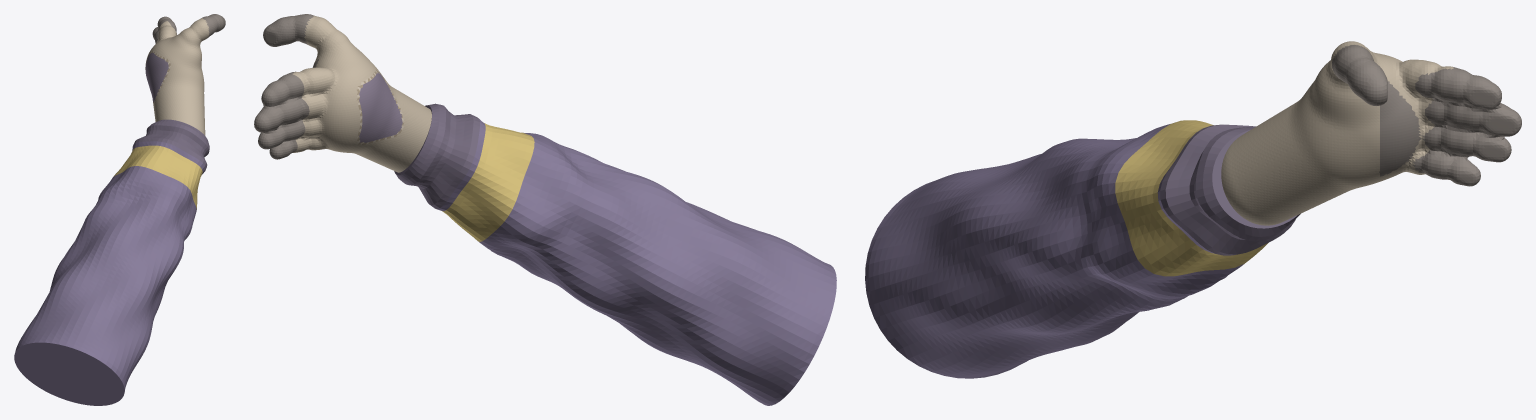
File: carryL.glb
The picture shows the model from 3 angles, left to right: view 1: azimuth 30°, elevation 25°; view 2: azimuth 150°, elevation 25°; view 3: azimuth 270°, elevation 25°; orthographic projection. The views are drawn at different scales.
Visible parts, largest first — view 1: vm_carryL_sleeve_uniform, vm_carryL_glove_canvas, vm_carryL_sleeve_stripe, vm_carryL_sleeve_cuff, vm_carryL_glove_patch, vm_carryL_glove_grip; view 2: vm_carryL_sleeve_uniform, vm_carryL_glove_canvas, vm_carryL_sleeve_stripe, vm_carryL_sleeve_cuff, vm_carryL_glove_grip, vm_carryL_glove_patch; view 3: vm_carryL_sleeve_uniform, vm_carryL_glove_canvas, vm_carryL_glove_grip, vm_carryL_sleeve_stripe, vm_carryL_sleeve_cuff.
Boxes of the visible parts, bbox=[...] form: vm_carryL_sleeve_uniform: bbox=[14, 141, 205, 405]; vm_carryL_glove_canvas: bbox=[145, 18, 209, 135]; vm_carryL_sleeve_stripe: bbox=[113, 145, 202, 209]; vm_carryL_sleeve_cuff: bbox=[134, 119, 209, 169]; vm_carryL_glove_patch: bbox=[145, 52, 168, 101]; vm_carryL_glove_grip: bbox=[152, 14, 225, 43]; vm_carryL_sleeve_uniform: bbox=[437, 119, 836, 405]; vm_carryL_glove_canvas: bbox=[292, 15, 431, 172]; vm_carryL_sleeve_stripe: bbox=[442, 123, 534, 241]; vm_carryL_sleeve_cuff: bbox=[394, 103, 479, 209]; vm_carryL_glove_grip: bbox=[254, 14, 318, 159]; vm_carryL_glove_patch: bbox=[359, 72, 402, 142]; vm_carryL_sleeve_uniform: bbox=[865, 124, 1243, 378]; vm_carryL_glove_canvas: bbox=[1221, 41, 1453, 225]; vm_carryL_glove_grip: bbox=[1332, 45, 1521, 186]; vm_carryL_sleeve_stripe: bbox=[1115, 120, 1267, 276]; vm_carryL_sleeve_cuff: bbox=[1160, 124, 1300, 255].
Bounding box in the file's own units: 0.5901 × 0.5189 × 0.5747.
